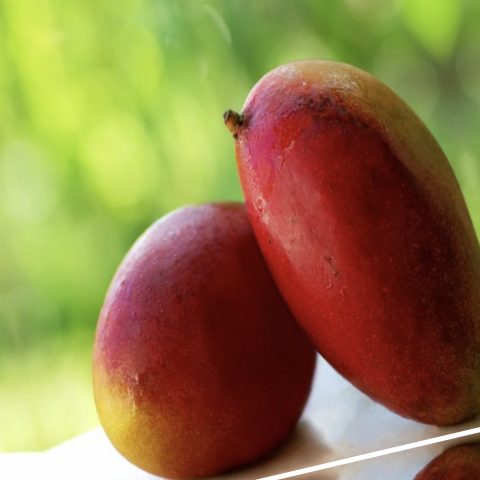mango: (188, 23, 480, 476), (33, 174, 373, 480)
